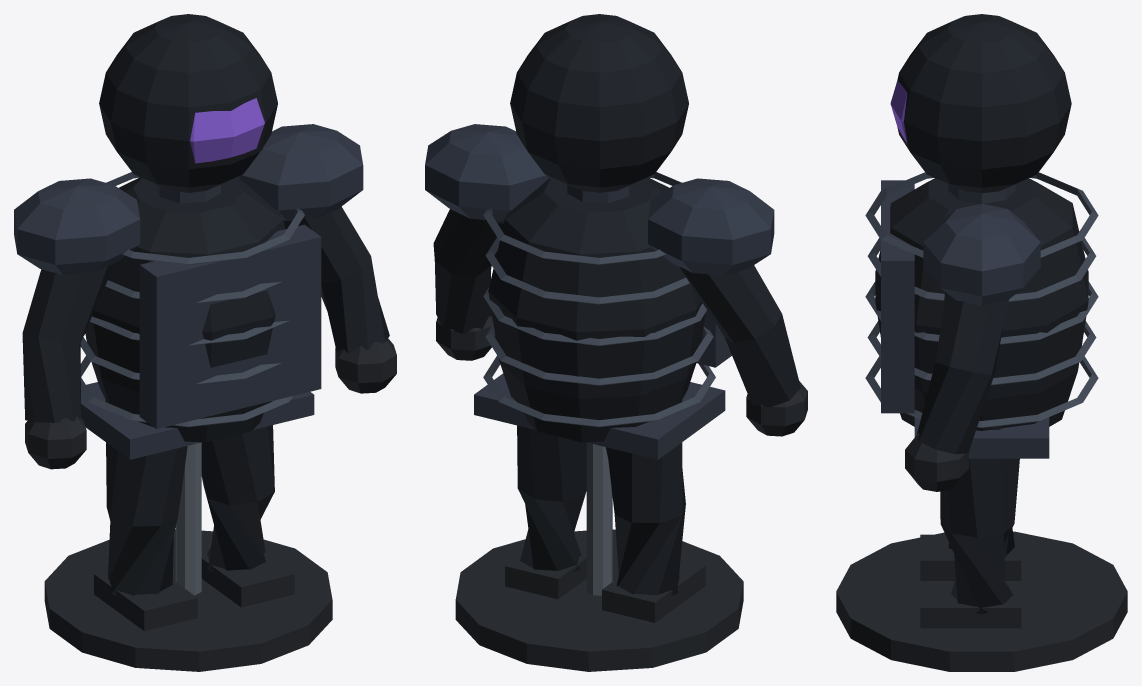
File: neutronium-mesh.glb
3 renders of one model, left to right at view 1: azimuth 30°, elevation 25°; view 2: azimuth 150°, elevation 25°; view 3: azimuth 270°, elevation 25°, orthographic.
Visible parts, largest first — view 1: m; view 2: m; view 3: m.
Part boxes in pixels (left/top/right/bottom): m: left=14, top=14, right=396, bottom=671; m: left=425, top=14, right=807, bottom=671; m: left=836, top=14, right=1127, bottom=671.
Bounding box in the file's own units: 0.3641 × 0.56 × 0.251.
